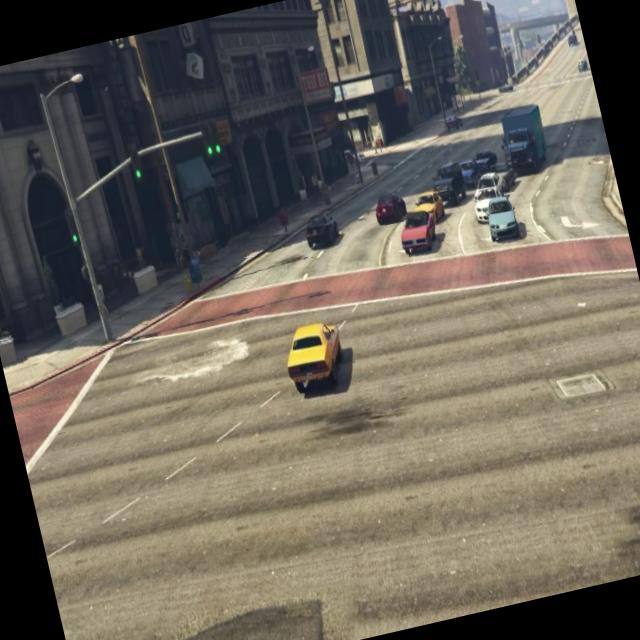Green-Signal: (178, 92, 236, 187), (113, 130, 163, 203), (48, 190, 94, 263)
